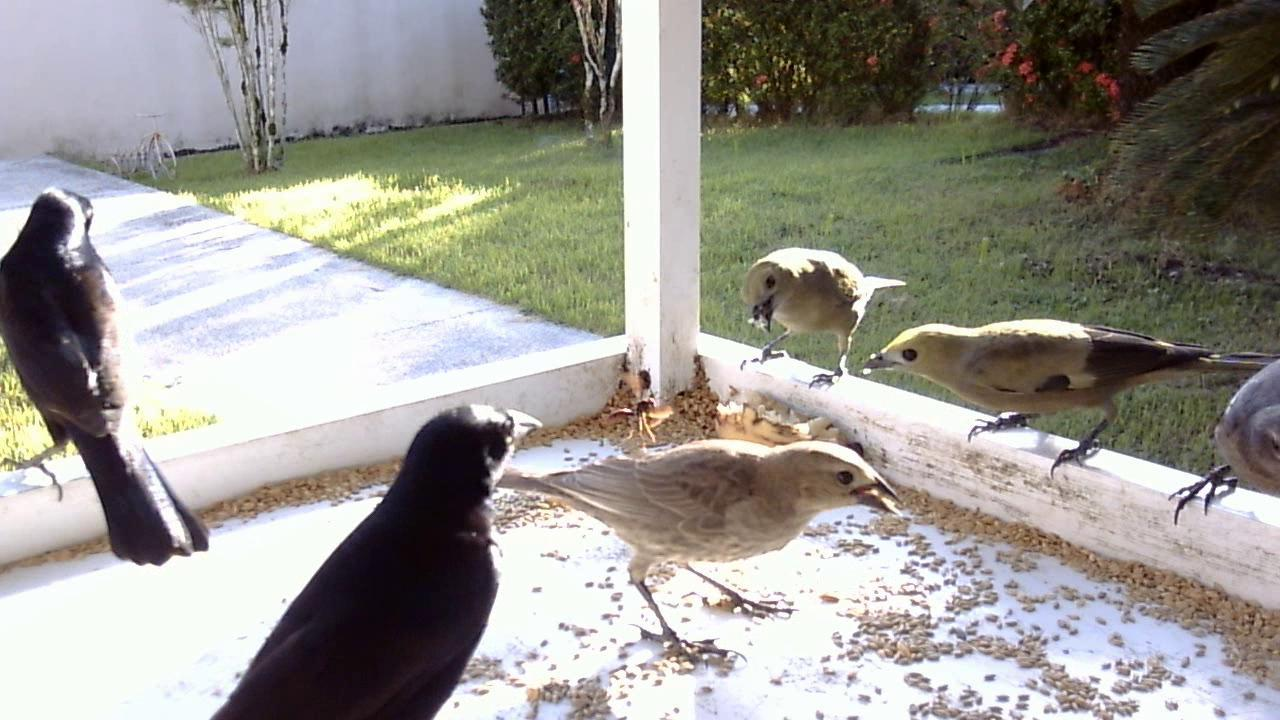chupim: (181, 389, 543, 716), (494, 430, 906, 668), (1, 173, 219, 568), (1164, 341, 1280, 544)
sanhaco_do_coqueiro: (862, 296, 1262, 502), (739, 242, 917, 400)
